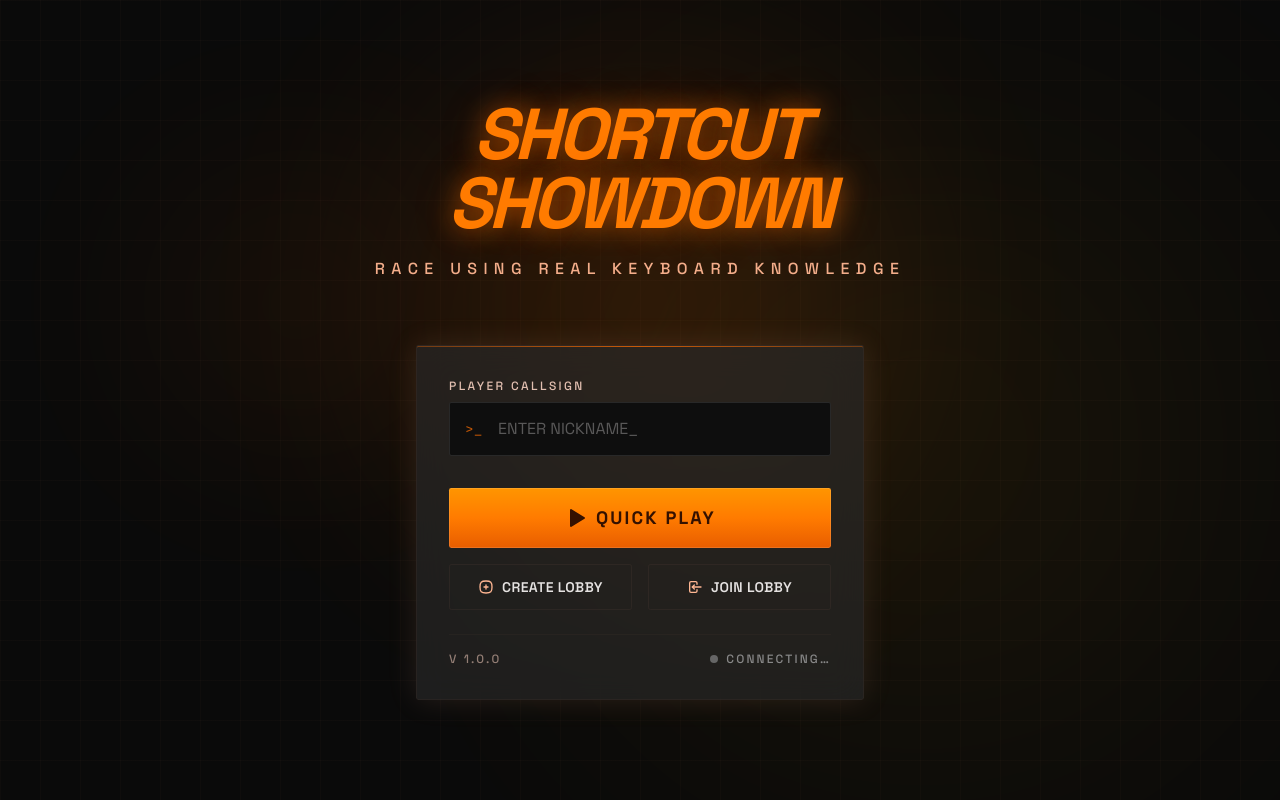
it: Home negative paths › blocks create when realtime never delivers player_id
The image size is (1280, 800).
Expected: the text "Connecting…" is shown, [710, 651, 831, 667]
Step 1. Click the button "Create Lobby" → (540,587), box [449, 564, 632, 610]
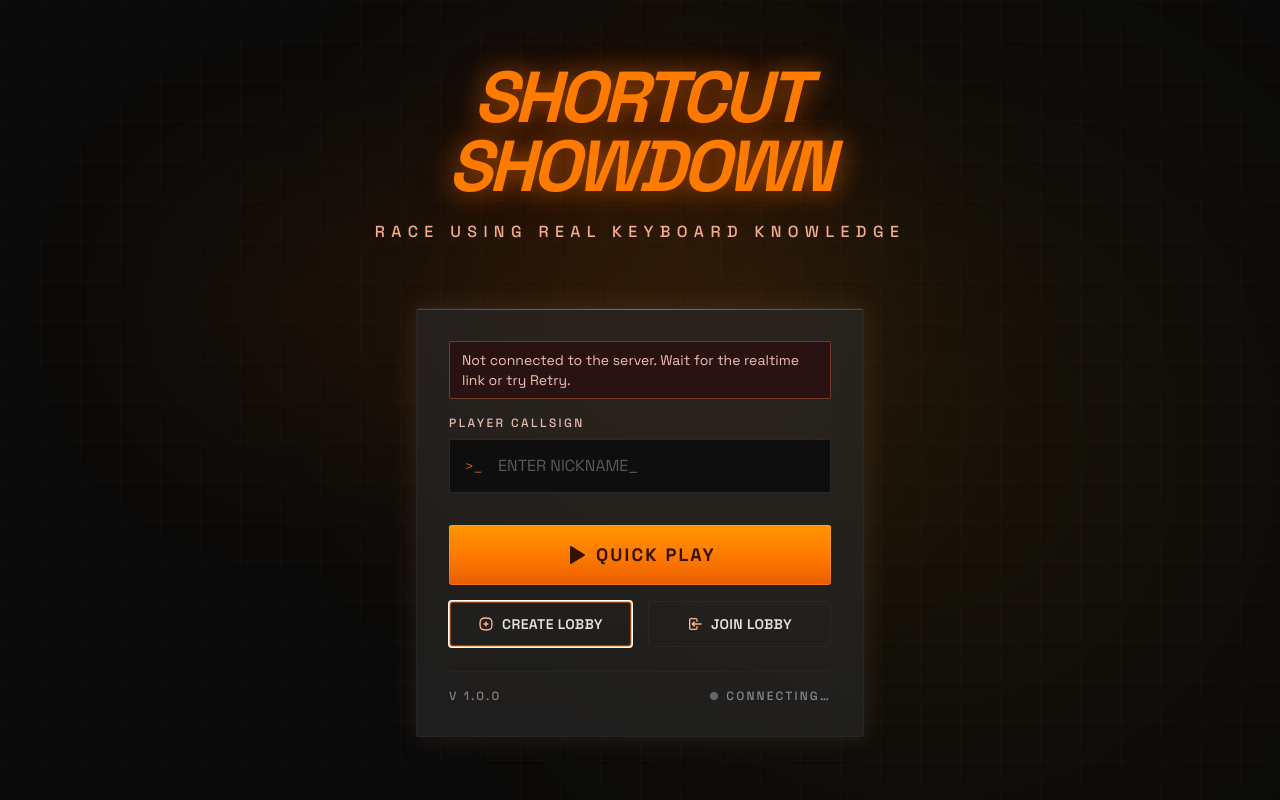
Now the text "Not connected to the server. Wait for the realtime link or try Retry." is shown, box [449, 341, 831, 399]
